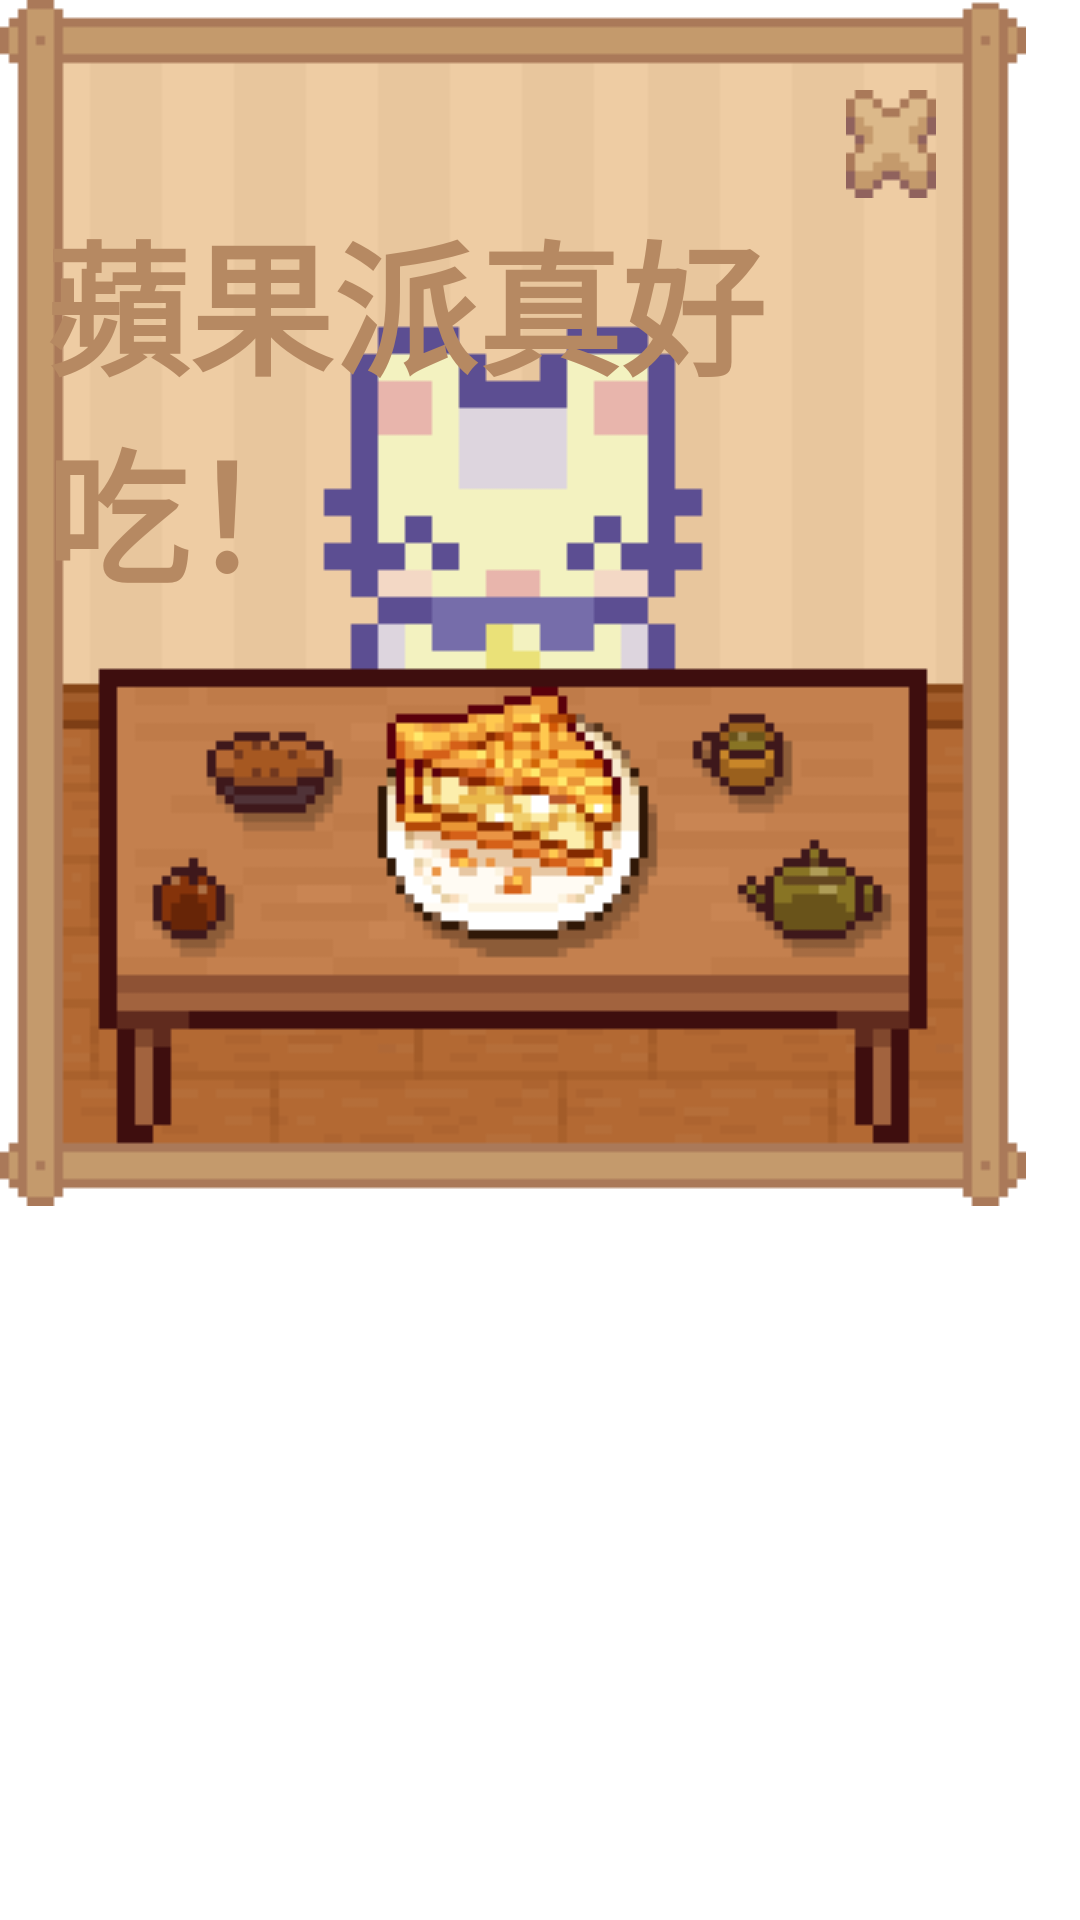

Named icons in this screenshot (1080w x 1920h) and their centers, point (x, y):
food close: point (891, 144)
